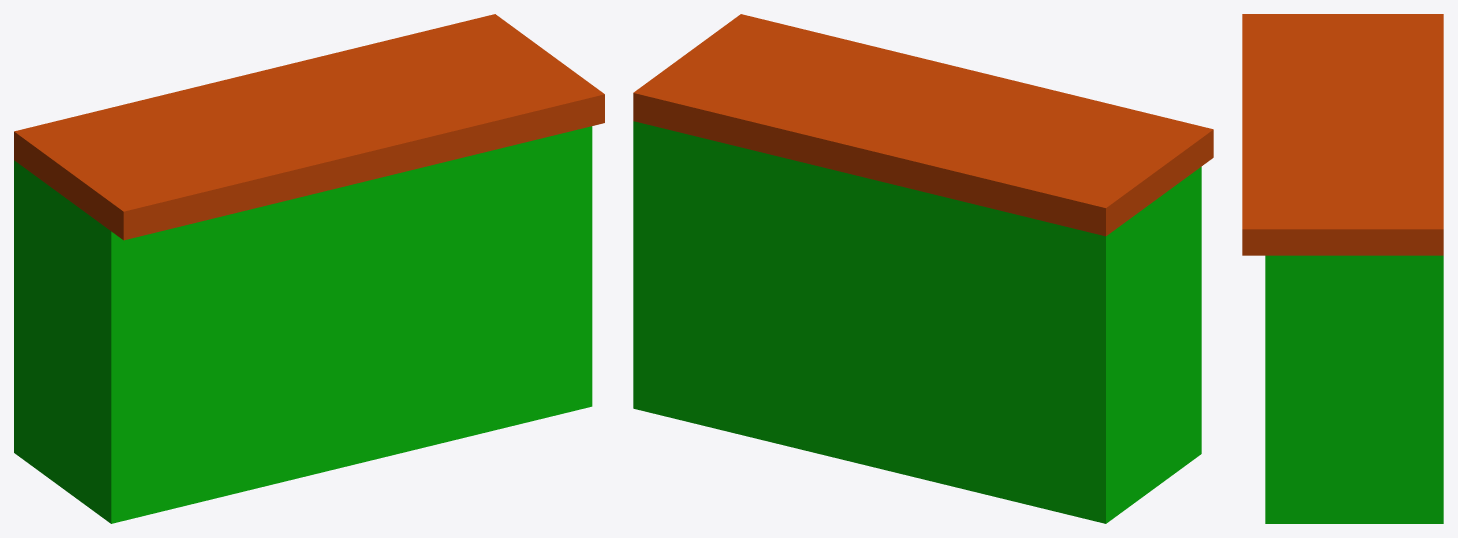
The model's file is comoda.fbx.
The picture shows the model from 3 angles, left to right: view 1: azimuth 30°, elevation 25°; view 2: azimuth 150°, elevation 25°; view 3: azimuth 270°, elevation 25°; orthographic projection. The views are drawn at different scales.
Parts seen in each view (by area): view 1: Cube.001 (×2); view 2: Cube.001 (×2); view 3: Cube.001 (×2).
Part boxes in pixels (box(x1,y1,x2,y2)): Cube.001 (×2): box(14, 14, 604, 523); Cube.001 (×2): box(633, 14, 1213, 523); Cube.001 (×2): box(1242, 14, 1443, 523).
Size of the model in its own units: 152 by 97 by 60.
